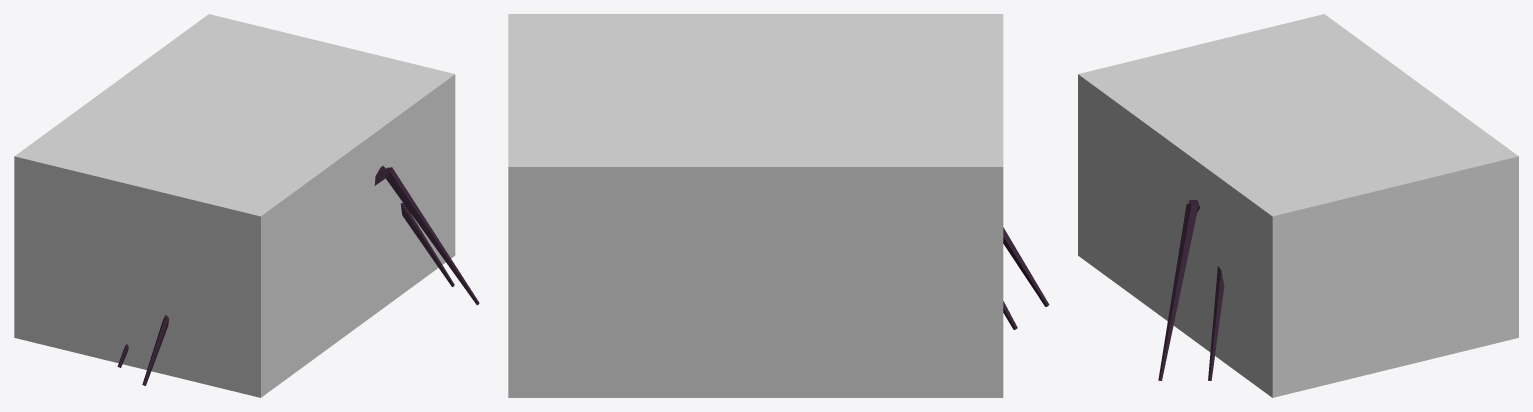
Rendered from plains_giant_spider.fbx.
3 views of the same model, side by side, from view 1: azimuth 30°, elevation 25°; view 2: azimuth 150°, elevation 25°; view 3: azimuth 270°, elevation 25° (orthographic). The views are drawn at different scales.
Parts seen in each view (by area): view 1: Root__0.00_2.23_0.36__8.74_4.50_6.39, LegL1__Body__-0.81_2.35_-1.47, LegL2__Body__-0.81_2.35_-0.88, LegR1__Body__0.81_2.35_-1.47; view 2: Root__0.00_2.23_0.36__8.74_4.50_6.39, LegR1__Body__0.81_2.35_-1.47; view 3: Root__0.00_2.23_0.36__8.74_4.50_6.39, LegL1__Body__-0.81_2.35_-1.47, LegL2__Body__-0.81_2.35_-0.88.
Part boxes in pixels (left/top/right/bottom): Root__0.00_2.23_0.36__8.74_4.50_6.39: left=14, top=14, right=455, bottom=397; LegL1__Body__-0.81_2.35_-1.47: left=374, top=166, right=479, bottom=304; LegL2__Body__-0.81_2.35_-0.88: left=400, top=203, right=454, bottom=286; LegR1__Body__0.81_2.35_-1.47: left=142, top=315, right=168, bottom=385; Root__0.00_2.23_0.36__8.74_4.50_6.39: left=508, top=14, right=1003, bottom=397; LegR1__Body__0.81_2.35_-1.47: left=1003, top=227, right=1049, bottom=306; Root__0.00_2.23_0.36__8.74_4.50_6.39: left=1078, top=14, right=1518, bottom=397; LegL1__Body__-0.81_2.35_-1.47: left=1158, top=200, right=1199, bottom=380; LegL2__Body__-0.81_2.35_-0.88: left=1208, top=266, right=1224, bottom=380.
Bounding box in the file's own units: 301 × 126 × 277.
Materials: 1 (1 with a texture image).
